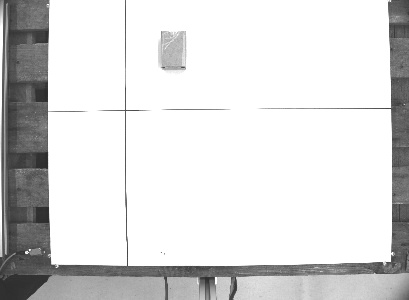b1: (158, 28, 188, 71)
